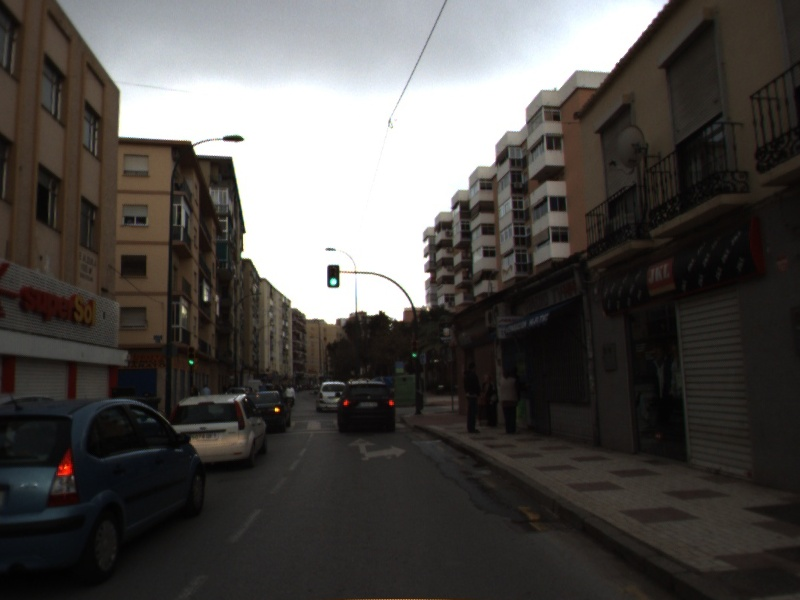STRAIGHT_RIGHT: (346, 436, 408, 462)
